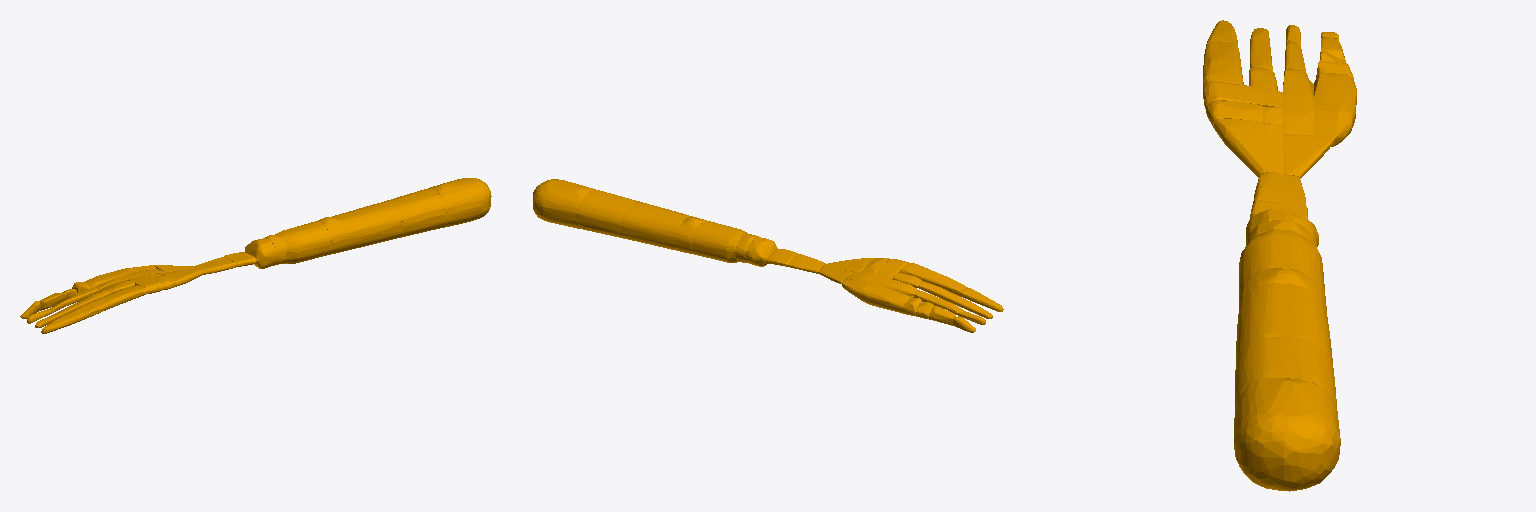
URDF robot description (030_fork):
<?xml version="1.0" encoding="UTF-8"?>
<robot name="030_fork">
	<link name="base">
		<collision>
			<geometry>
				<mesh filename="..\vhacd\030_fork_vhacd.obj" scale="1.0 1.0 1.0"/>
			</geometry>
			<origin xyz="0 0 0"/>
			<contact_coefficients mu="0.24" />
		</collision>
		<visual>
			<geometry>
				<mesh filename="..\vhacd\030_fork_vhacd.obj" scale="1.0 1.0 1.0"/>
			</geometry>
			<origin xyz="0 0 0"/>
		</visual>
		<inertial>
			<mass value="0"/>
			<inertia ixx="0.0" ixy="0.0" ixz="-0.0" iyy="0.0" iyz="0.0" izz="0.0" />
			<origin xyz="0.008499561849306598 -0.02153311273109633 0.0067092743442426035"/>
		</inertial>
	</link>
</robot>

--- Render facts (derived) ---
Views: 3 orthographic renders of the robot side by side, from view 1: azimuth 30°, elevation 25°; view 2: azimuth 150°, elevation 25°; view 3: azimuth 270°, elevation 25°.
Model 030_fork with 1 links and 0 joints (none), rooted at base, posed every joint at zero.
Visible links, largest first — view 1: base; view 2: base; view 3: base.
Link boxes in pixels (box(x1,y1,x2,y2)): base: box(20, 178, 491, 333); base: box(533, 179, 1003, 332); base: box(1203, 20, 1356, 491).
Size in the robot's own frame: 0.1977 by 0.0272 by 0.016 metres.
1 mesh visuals loaded from 1 distinct referenced files (1 OBJ).